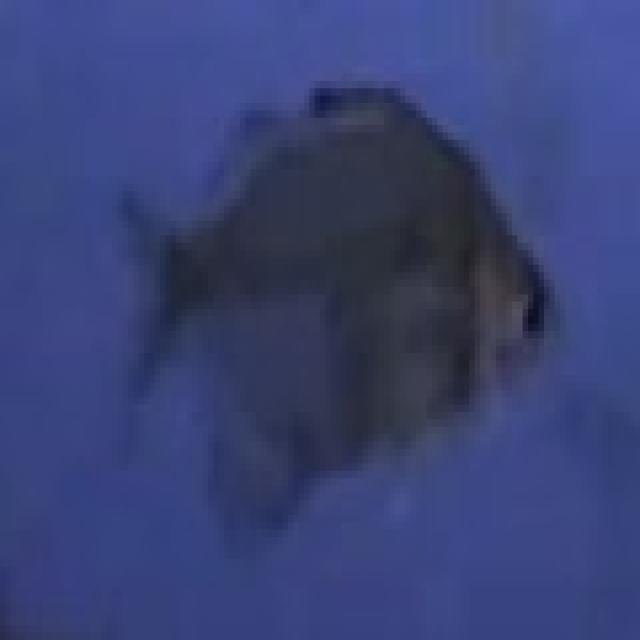Glass-Perchlet: (54, 12, 582, 578)
